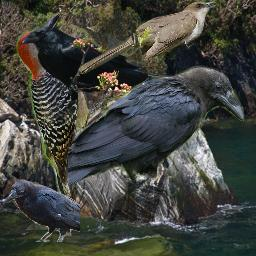Crow: (68, 65, 246, 188), (16, 23, 167, 124), (3, 178, 80, 242)
Cuckoo: (78, 0, 216, 74)
Woodpecker: (10, 10, 128, 210)
